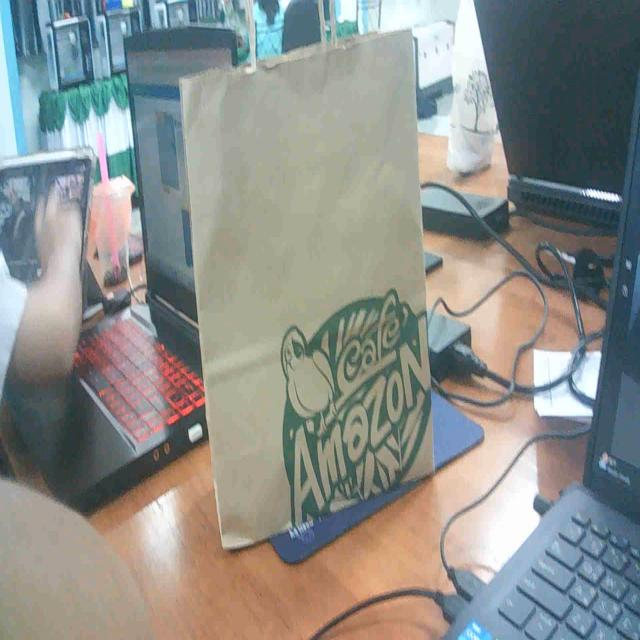bag: (171, 16, 441, 532)
